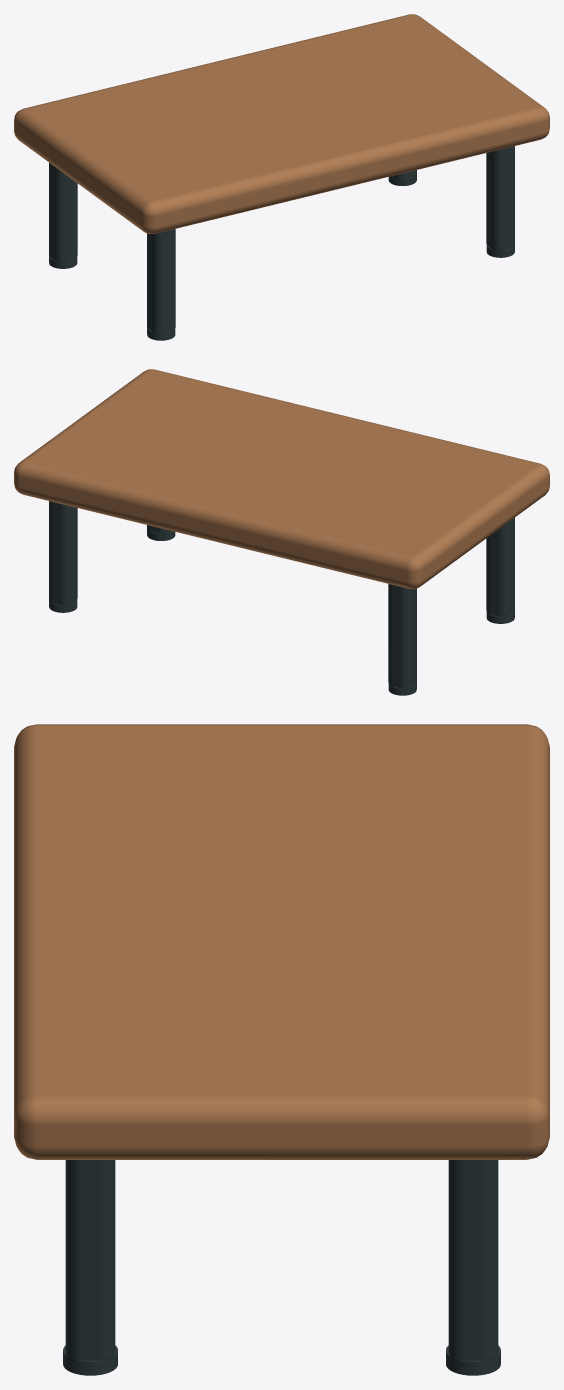
The model's file is coffee-table.glb.
3 renders of one model, top to bottom at view 1: azimuth 30°, elevation 25°; view 2: azimuth 150°, elevation 25°; view 3: azimuth 270°, elevation 25°, orthographic. The views are drawn at different scales.
Visible parts, largest first — view 1: coffee-table; view 2: coffee-table; view 3: coffee-table.
Boxes of the visible parts, x1=… form: coffee-table: x1=14, y1=14, x2=549, y2=340; coffee-table: x1=14, y1=369, x2=549, y2=695; coffee-table: x1=14, y1=724, x2=549, y2=1375.
Bounding box in the file's own units: 1.2 × 0.42 × 0.7.
